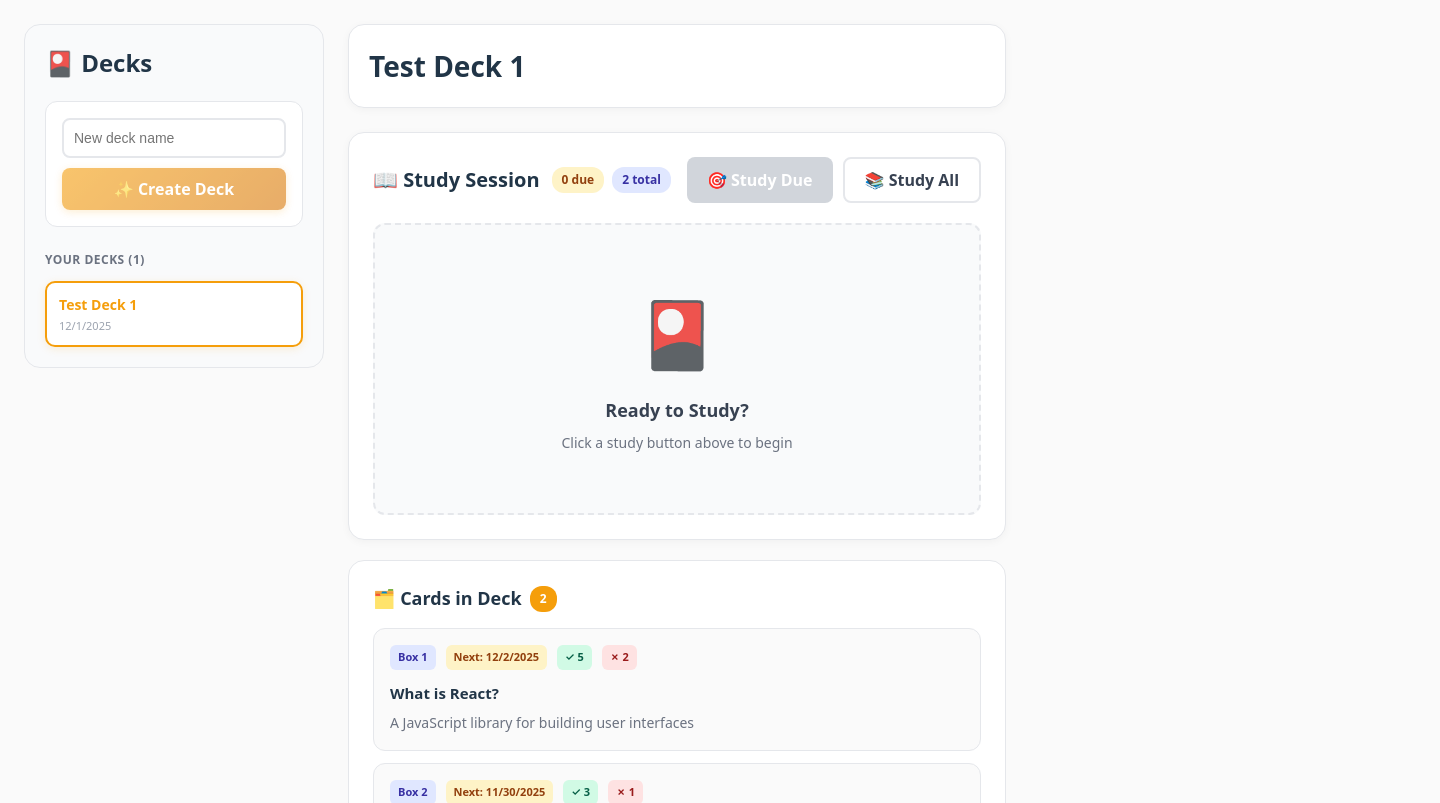
it: Decks Page › starts study with all cards
This screenshot has width=1440, height=803.
Expected: the text "2 total" is shown, [612,167,671,193]
Click the button with test id "study-all-button": [912, 180] box [842,157,981,203]
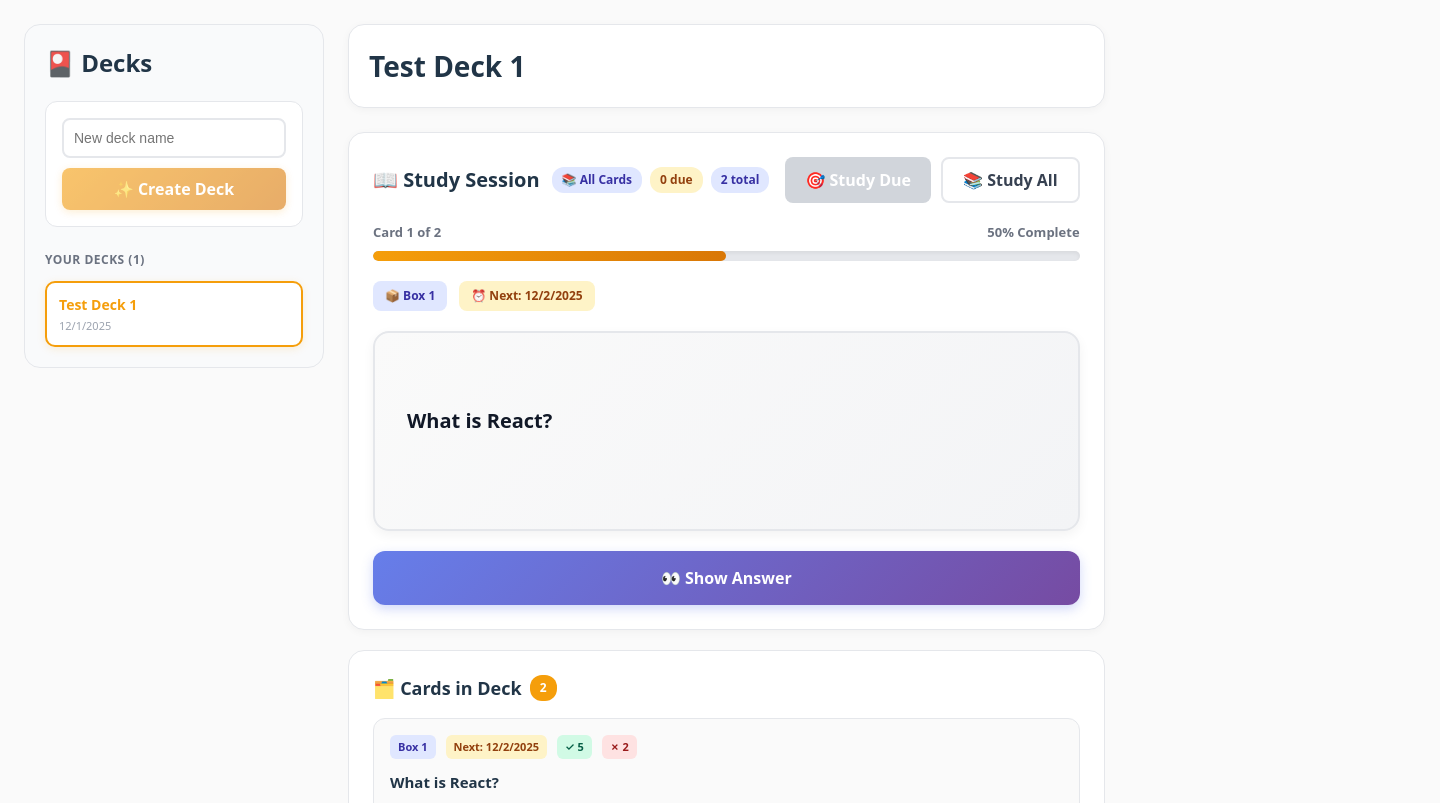
Now the text "Card 1 of 2" is shown, box [373,223,441,242]
